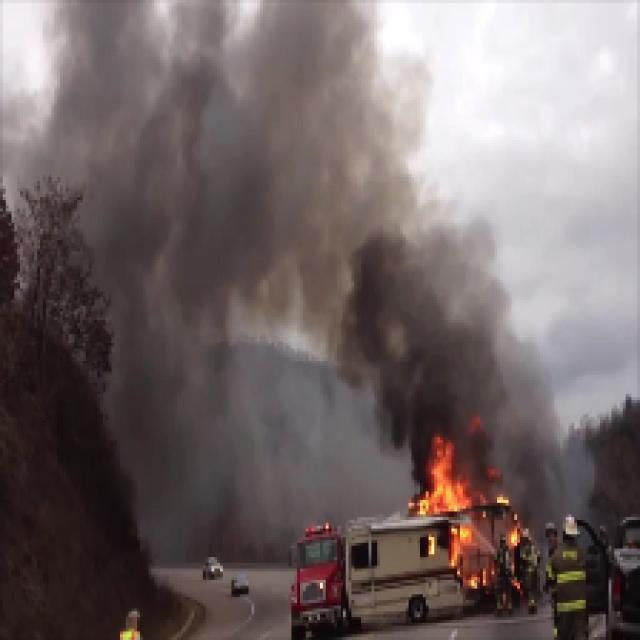fire: (414, 441, 472, 526)
smoke: (54, 91, 376, 279), (353, 285, 525, 430)
